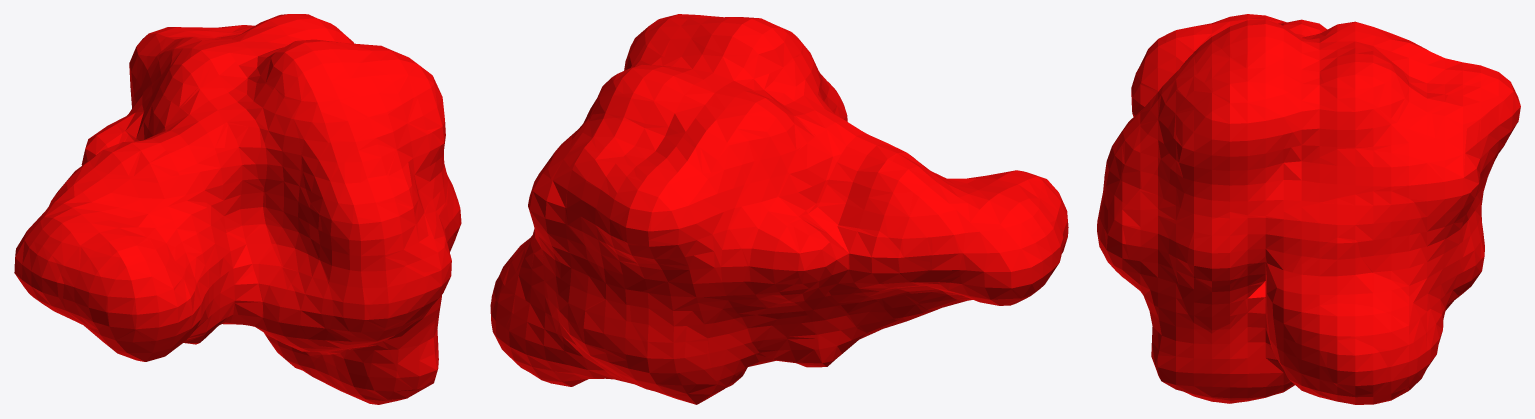
File: ispU_coarse.dae
3 views of the same model, side by side, from view 1: azimuth 30°, elevation 25°; view 2: azimuth 150°, elevation 25°; view 3: azimuth 270°, elevation 25° (orthographic). The views are drawn at different scales.
Parts seen in each view (by area): view 1: ispU; view 2: ispU; view 3: ispU.
Part boxes in pixels (left/top/right/bottom): ispU: left=14, top=14, right=461, bottom=404; ispU: left=490, top=14, right=1068, bottom=404; ispU: left=1097, top=14, right=1520, bottom=404.
Size of the model in its own units: 63.73 by 46.17 by 50.44.
